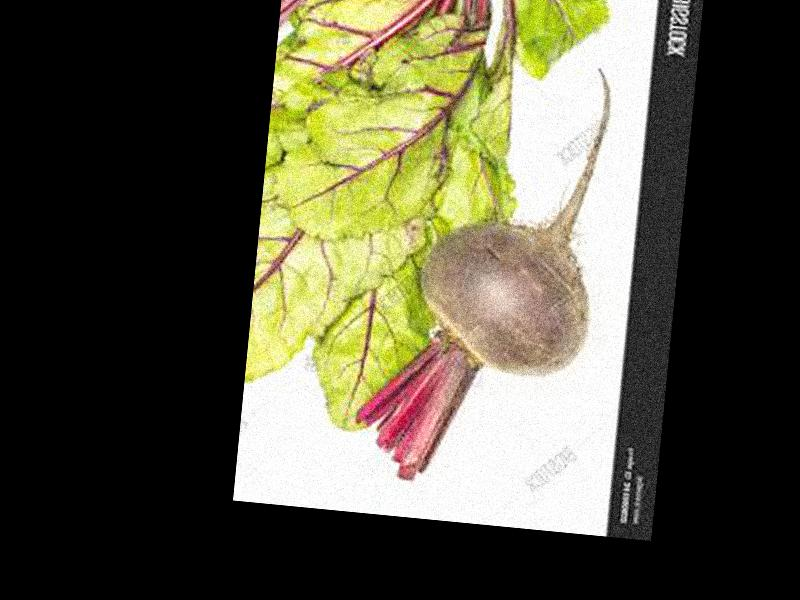Beet: (351, 48, 614, 496)
